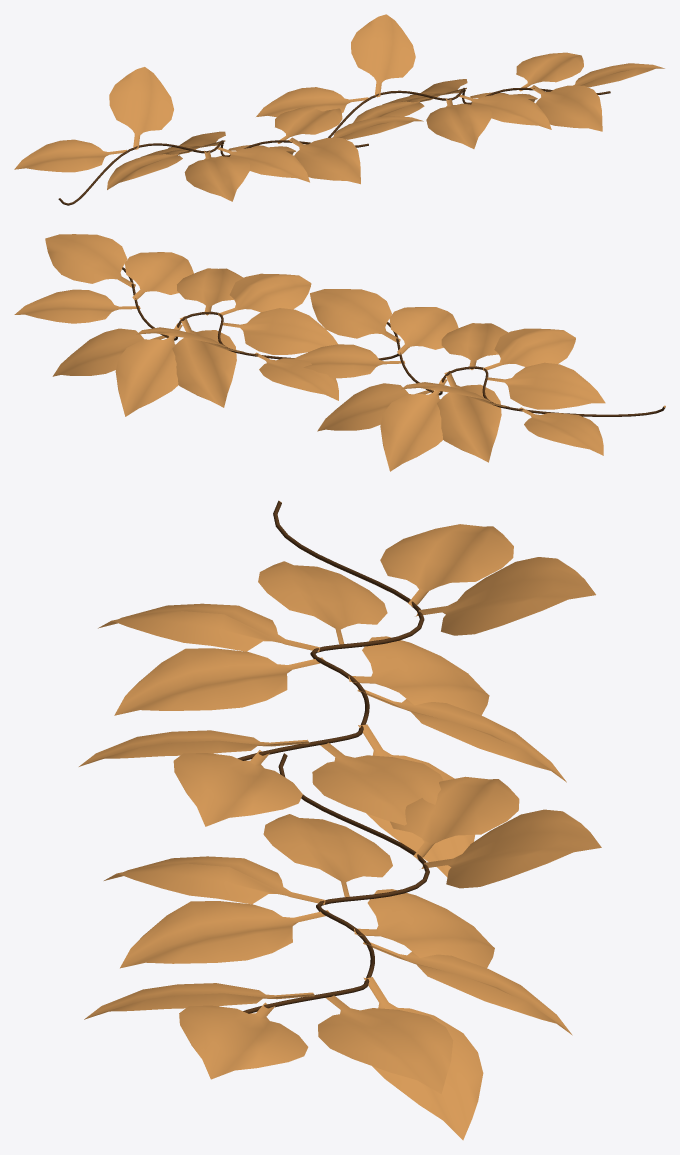
File: light_brown_vines_long.fbx
3 renders of one model, top to bottom at view 1: azimuth 30°, elevation 25°; view 2: azimuth 150°, elevation 25°; view 3: azimuth 270°, elevation 25°, orthographic. The views are drawn at different scales.
Visible parts, largest first — view 1: Vine1.001; view 2: Vine1.001; view 3: Vine1.001.
Boxes of the visible parts, <box> form: Vine1.001: <box>14,14,664,205</box>; Vine1.001: <box>14,234,665,471</box>; Vine1.001: <box>79,500,601,1140</box>.
Bounding box in the file's own units: 2403 × 396 × 924.
